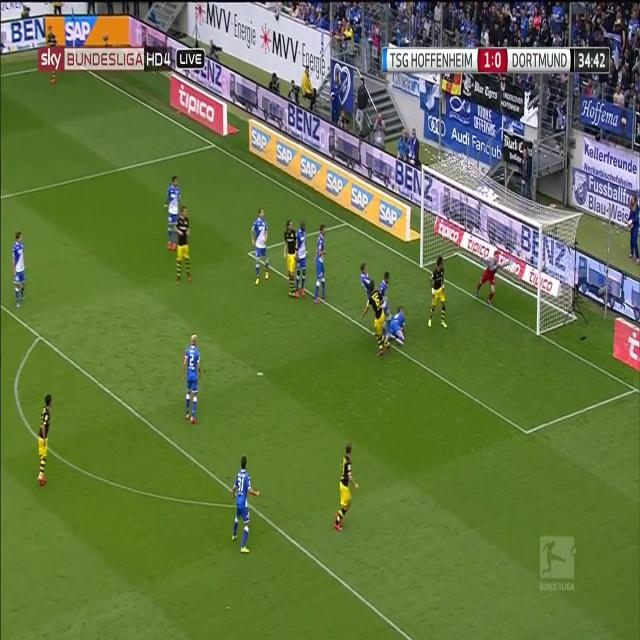Goalkeeper: (474, 249, 514, 307)
Player: (230, 455, 263, 558), (333, 442, 360, 534), (182, 332, 204, 428), (34, 391, 55, 491), (361, 280, 386, 362), (249, 206, 272, 289), (425, 253, 448, 333), (312, 220, 330, 313), (162, 170, 182, 253), (11, 228, 29, 314), (175, 207, 192, 285), (281, 218, 297, 300), (294, 222, 310, 302), (385, 304, 409, 349), (378, 268, 393, 305), (358, 261, 370, 291)
